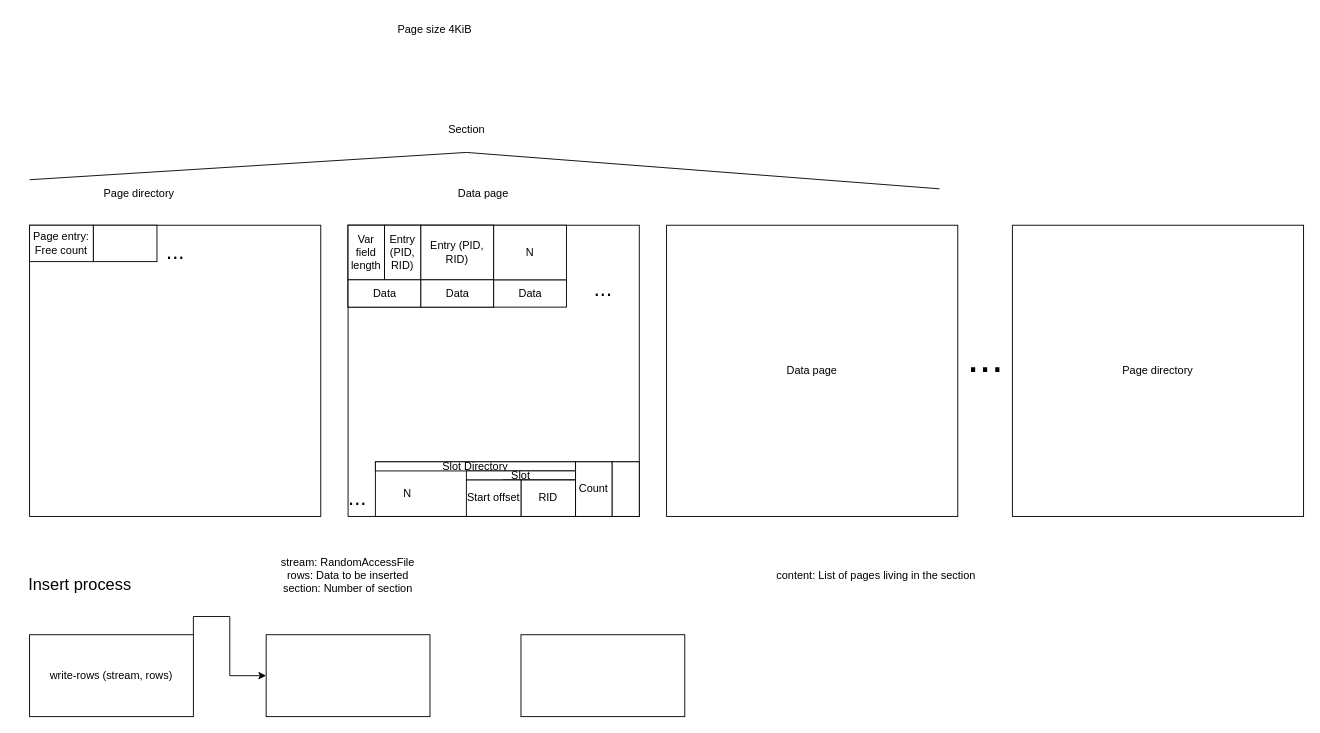
The diagram is 1320 pixels wide and 733 high, and some of its shapes have lost their labels. The centre of each missing label's shape, as x and y in pixels:
Free offset: the point at 625,488
write-rows (stream, rows, section): the point at 347,675
write-section (stream, rows, section): the point at 602,675
